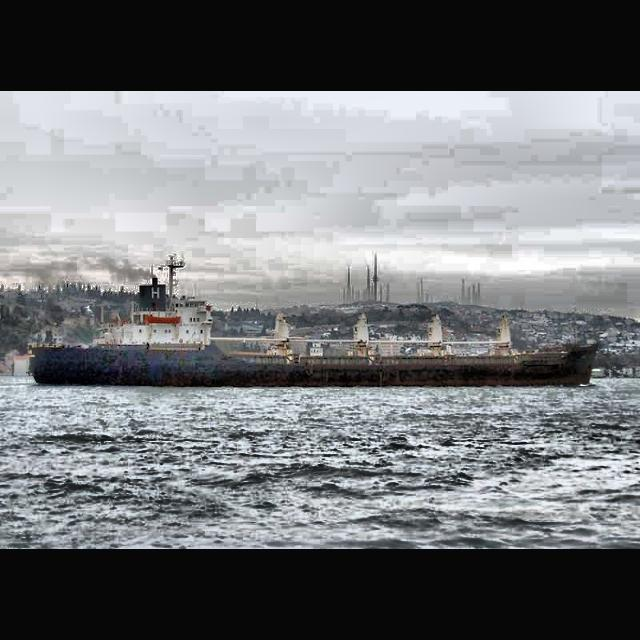bulk_carrier: (28, 256, 600, 388)
